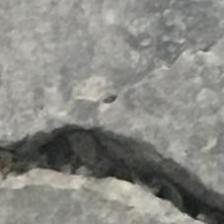Crack: (0, 112, 224, 223)
